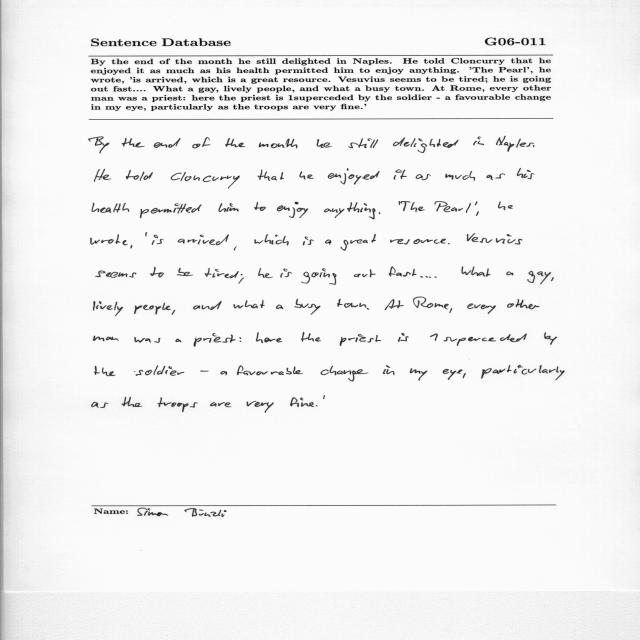word: (430, 333, 527, 346), (481, 365, 565, 380), (171, 172, 240, 189), (393, 137, 458, 153), (324, 202, 376, 220), (140, 204, 202, 219), (328, 168, 380, 185), (237, 365, 303, 376), (321, 366, 369, 381), (467, 234, 523, 245), (496, 136, 534, 152), (158, 397, 198, 412), (341, 234, 376, 251), (301, 268, 336, 285), (194, 333, 236, 347), (178, 235, 229, 246), (134, 365, 184, 376), (277, 202, 308, 218), (340, 334, 381, 346), (93, 301, 123, 316), (435, 201, 471, 213), (294, 299, 321, 315), (413, 297, 449, 309), (254, 234, 289, 246), (92, 202, 129, 213), (91, 235, 128, 246), (134, 303, 171, 314), (259, 139, 297, 149), (89, 137, 110, 154), (204, 268, 239, 278), (390, 239, 446, 245), (246, 401, 274, 413), (507, 299, 540, 309), (96, 270, 137, 278), (467, 303, 496, 314), (527, 271, 551, 284), (348, 139, 378, 149), (445, 171, 475, 181), (126, 170, 153, 181), (257, 170, 284, 181), (256, 333, 282, 344), (153, 138, 181, 148), (389, 267, 417, 277), (400, 201, 425, 212), (193, 301, 222, 310), (337, 299, 366, 308), (233, 300, 265, 308), (290, 397, 314, 407), (410, 368, 428, 381), (95, 169, 112, 182), (471, 266, 491, 277), (94, 366, 116, 376), (443, 369, 463, 380), (122, 397, 143, 407), (385, 299, 404, 310), (301, 332, 321, 342), (122, 138, 144, 147), (193, 137, 211, 148), (517, 168, 535, 179), (226, 138, 246, 147), (219, 203, 239, 212), (354, 270, 376, 278), (544, 332, 557, 345), (134, 337, 161, 343), (150, 267, 164, 278), (258, 268, 273, 278), (317, 139, 332, 148), (498, 202, 513, 211), (487, 173, 506, 180), (394, 170, 407, 180), (177, 268, 193, 276), (300, 171, 314, 180), (94, 336, 119, 341), (152, 235, 164, 245), (383, 365, 395, 375), (254, 202, 266, 211), (280, 269, 292, 278), (210, 402, 231, 407), (92, 402, 109, 408), (473, 137, 484, 146), (303, 237, 314, 246), (398, 333, 409, 342), (416, 174, 431, 180), (462, 267, 472, 275), (239, 274, 245, 284), (325, 240, 332, 245), (420, 276, 437, 278), (507, 272, 514, 276), (276, 305, 283, 309), (176, 339, 182, 343), (221, 371, 227, 375), (200, 370, 209, 372), (463, 373, 466, 379), (476, 211, 479, 216), (234, 246, 237, 251), (172, 310, 175, 315), (450, 308, 453, 313), (475, 202, 478, 206), (551, 277, 554, 281), (240, 337, 242, 342), (131, 245, 133, 249), (145, 233, 147, 237), (323, 395, 325, 399), (379, 213, 381, 215), (399, 201, 400, 205), (367, 308, 369, 310), (533, 145, 534, 147), (448, 243, 450, 244), (316, 405, 318, 406)
